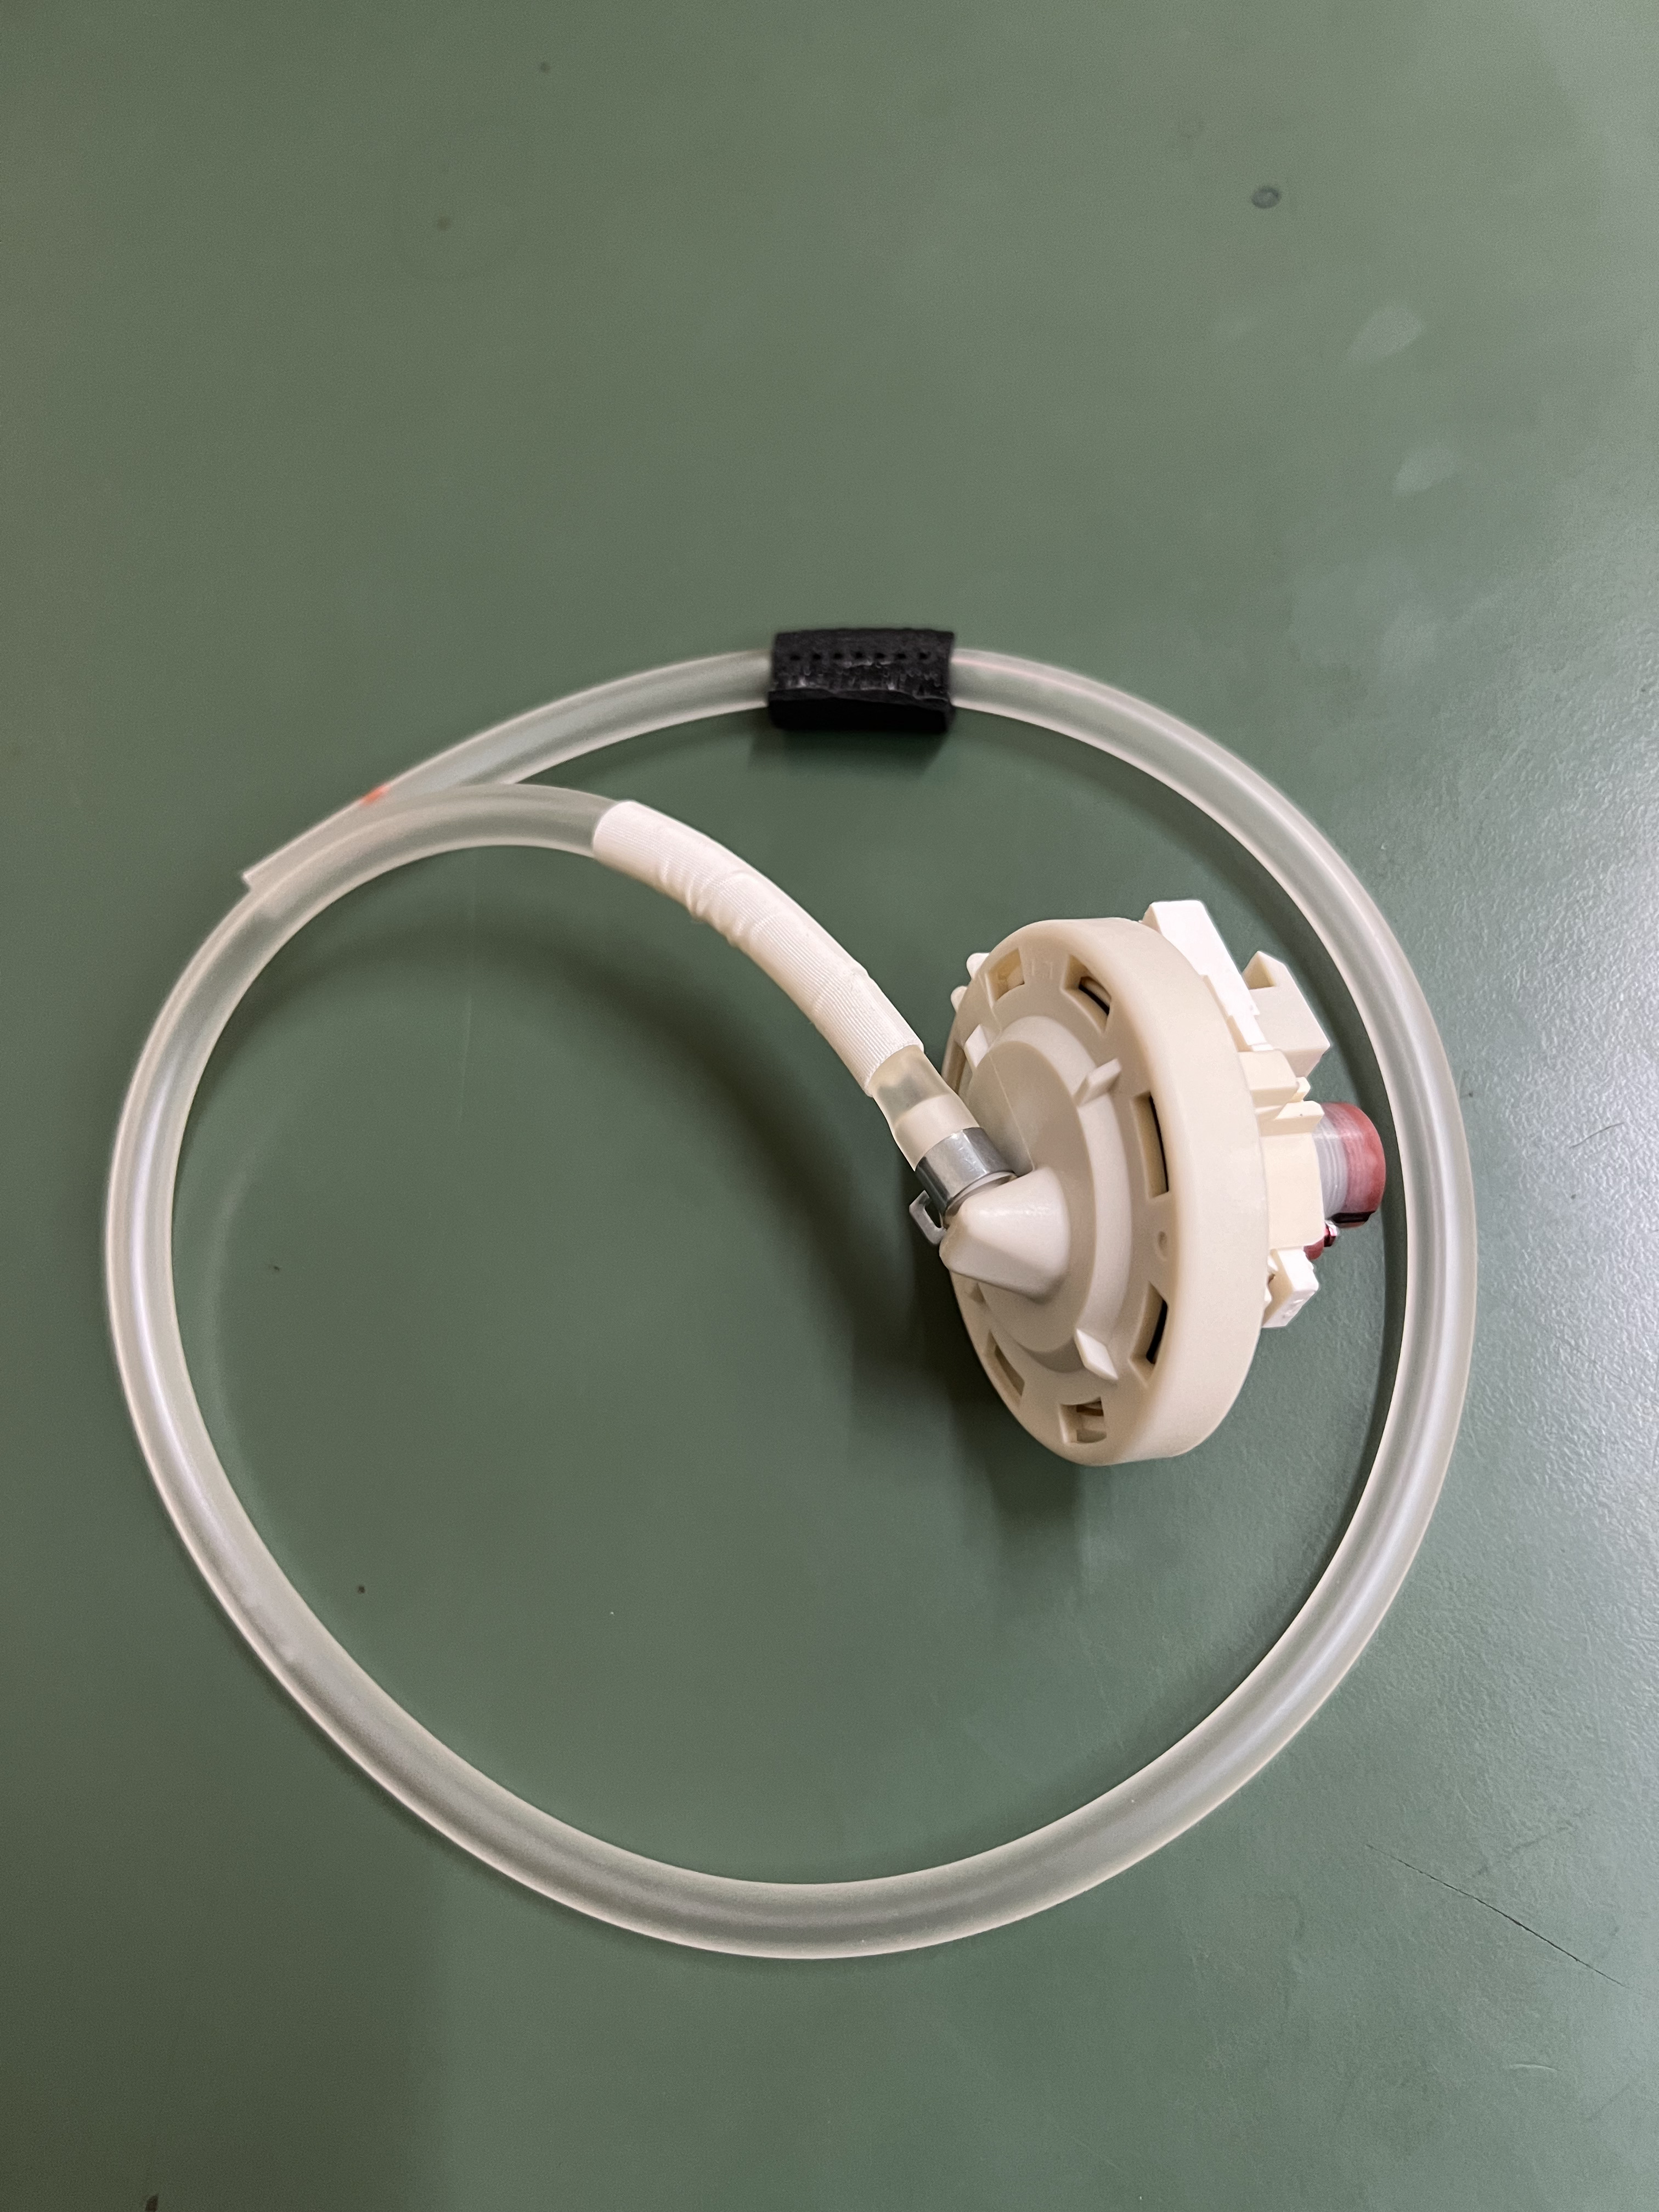pressure_sensor: (863, 888, 1427, 1536)
